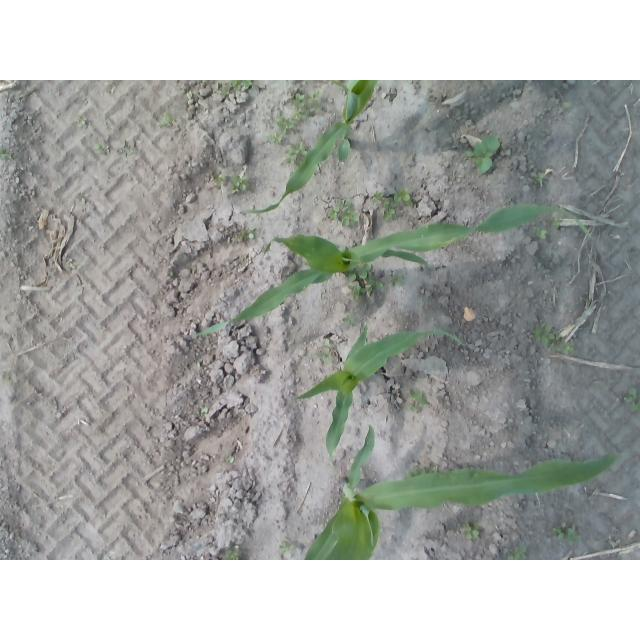Maize: (196, 204, 593, 337), (304, 425, 619, 560), (284, 325, 465, 465), (241, 80, 379, 214)
Weeds: (465, 134, 500, 174), (291, 88, 321, 121), (555, 525, 580, 546), (534, 323, 554, 345), (341, 202, 359, 226), (316, 340, 333, 364), (284, 143, 304, 161), (625, 388, 639, 413), (278, 117, 294, 135), (232, 176, 249, 192), (411, 389, 430, 403), (394, 189, 411, 204), (348, 285, 365, 300), (228, 80, 253, 90), (156, 112, 172, 127), (465, 524, 479, 541), (508, 548, 526, 560), (370, 274, 384, 287), (390, 274, 403, 287), (95, 142, 108, 155), (557, 343, 572, 354), (211, 173, 226, 184), (384, 205, 395, 219), (536, 228, 548, 240), (282, 543, 295, 554), (267, 134, 282, 143), (329, 208, 340, 220), (76, 117, 88, 128), (374, 193, 385, 204), (4, 372, 14, 384), (537, 173, 546, 186), (226, 552, 238, 561), (218, 88, 231, 96), (342, 316, 355, 323), (247, 227, 255, 238), (226, 456, 235, 464), (410, 405, 419, 412), (7, 153, 14, 159)
